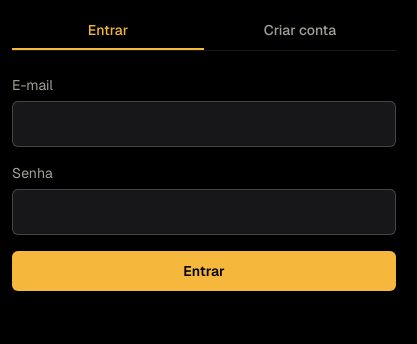
ao trocar de aba, o erro antigo some
This screenshot has width=417, height=344.
In the field labelled "E-mail": [204, 124] box [12,101,396,147], type "a@x.com"
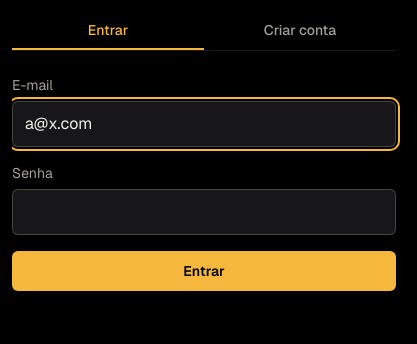
In the password field labelled "Senha": [204, 212] box [12,189,396,235], type "123456"
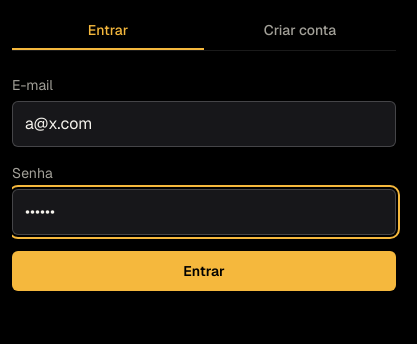
Click the button "Entrar": [204, 271] box [12,251,396,291]
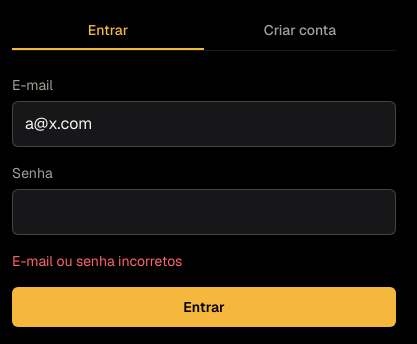
Expected: the message "E-mail ou senha incorretos" is shown, [12,252,182,270]
Click the tab "Criar conta": [300, 31] box [204,12,396,50]
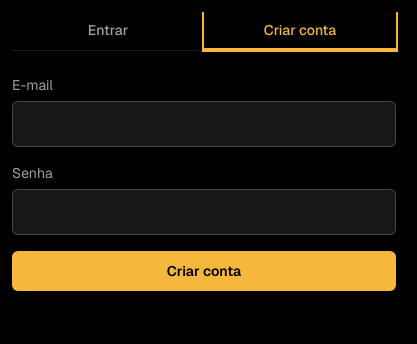
Expected: the message "E-mail ou senha incorretos" is gone
